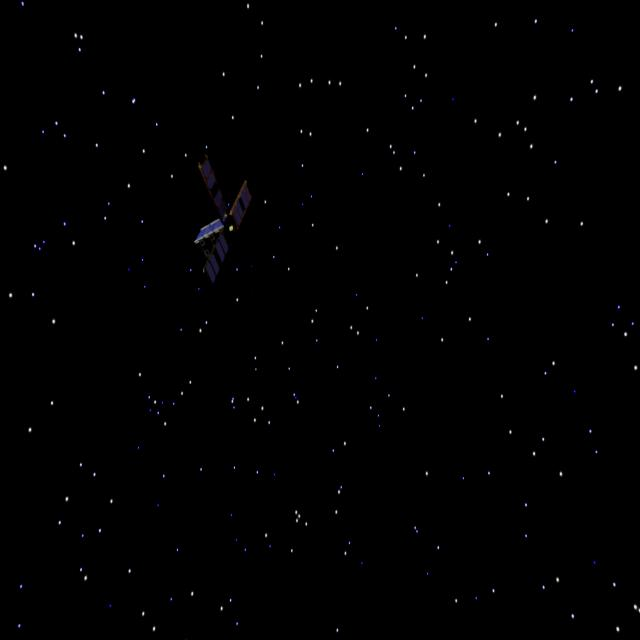satellite: (194, 140, 266, 308)
